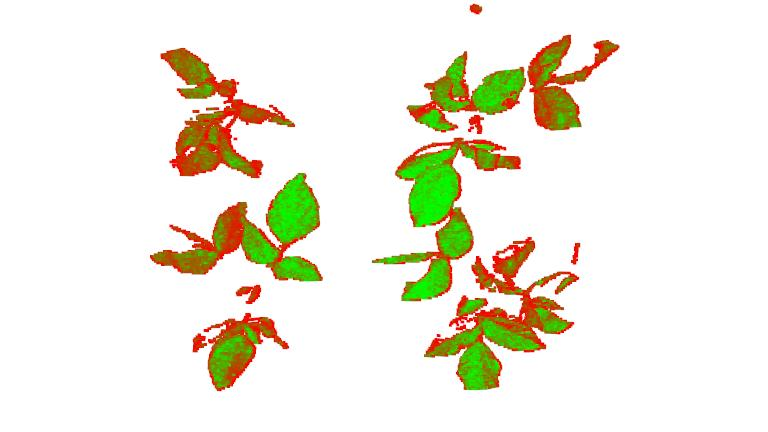mungbean: (391, 31, 625, 225), (142, 171, 328, 394), (370, 211, 586, 394), (154, 45, 297, 182)
